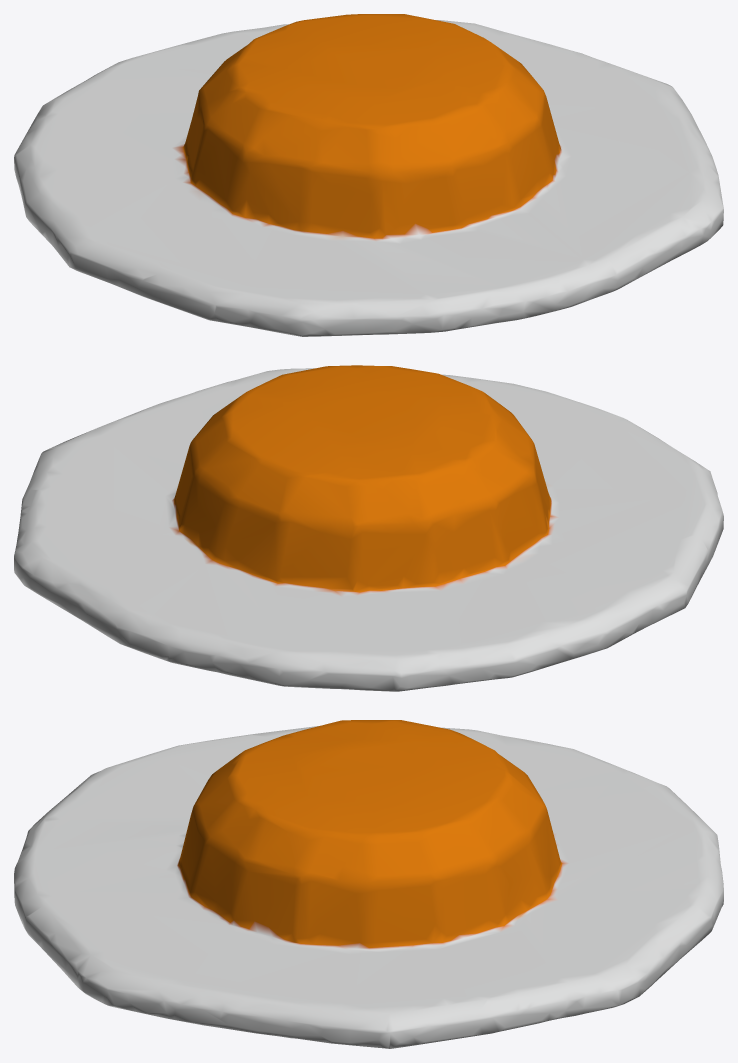
The model's file is gen3d-fried-egg-lod0.glb.
3 renders of one model, top to bottom at view 1: azimuth 30°, elevation 25°; view 2: azimuth 150°, elevation 25°; view 3: azimuth 270°, elevation 25°, orthographic.
Parts seen in each view (by area): view 1: part_0; view 2: part_0; view 3: part_0.
Boxes of the visible parts, bbox=[...] form: part_0: bbox=[14, 14, 723, 336]; part_0: bbox=[14, 365, 723, 691]; part_0: bbox=[14, 720, 723, 1048].
Size of the model in its own units: 5.11 by 0.9999 by 4.97.
